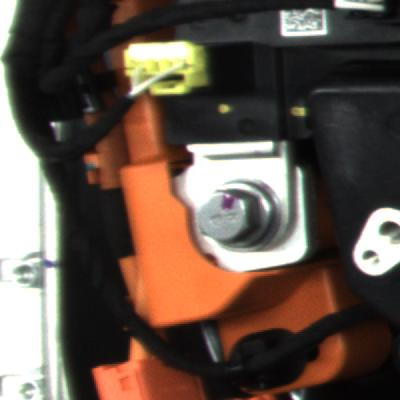nut_b: (192, 172, 284, 261)
